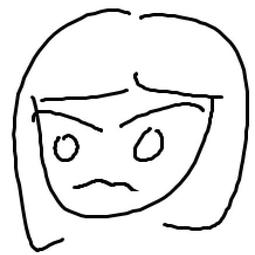empty_eye: (128, 123, 167, 168), (47, 129, 81, 165)
frowning_eyebrow: (118, 100, 206, 128), (24, 108, 106, 133)
line_unsmiling_mouth: (69, 169, 145, 202)
